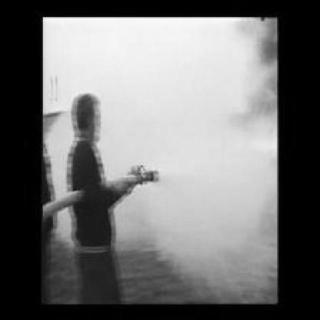Fire: (241, 101, 274, 159)
